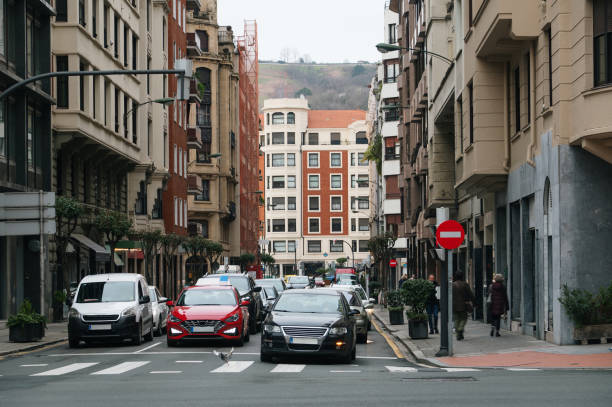Girilmez: (433, 217, 468, 251)
otomobil: (249, 280, 378, 376), (156, 267, 240, 359), (48, 272, 154, 341)
